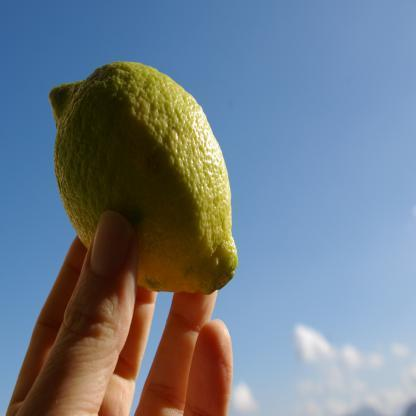lemon: (48, 58, 238, 295)
